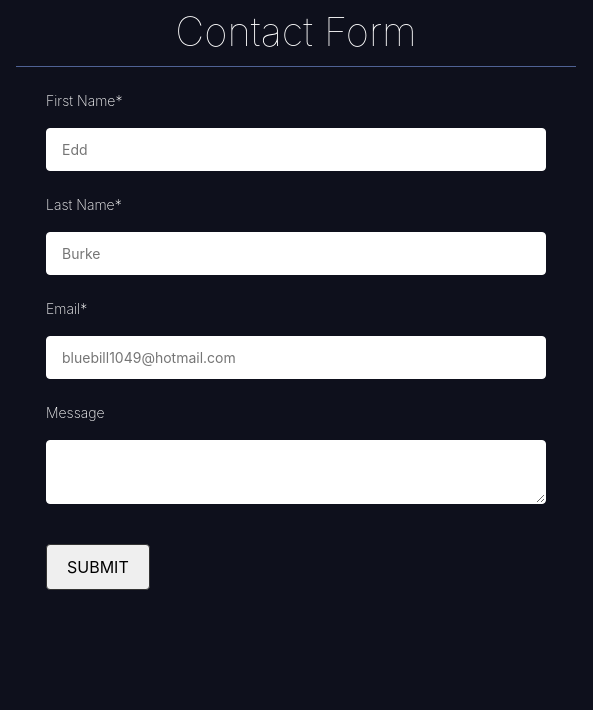
Test: renders THREE error messages if user enters no values into any fields.
Click the button at (98, 567), box [46,544,150,590]
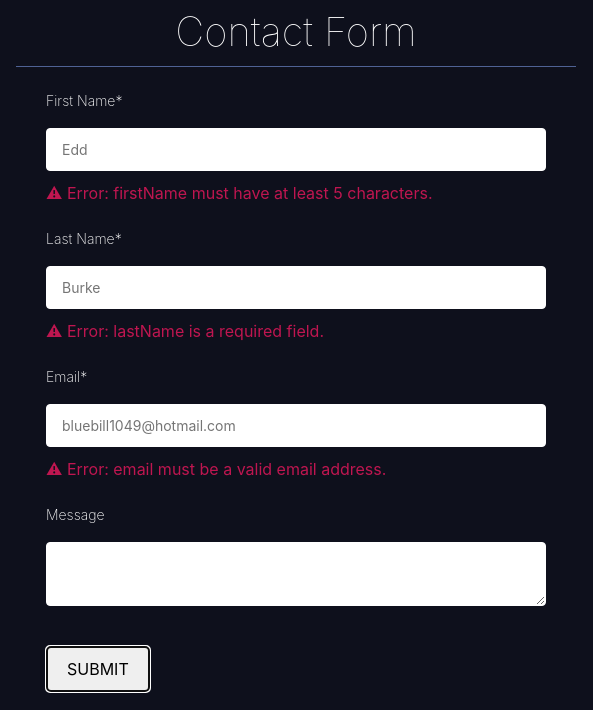
Check: the number of elements with test id "error" is 3, box [67,183,432,203]; [67,321,324,341]; [67,459,386,479]
